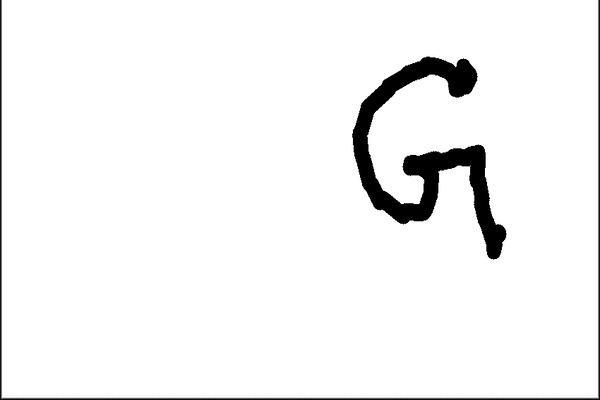G: (348, 50, 512, 263)
